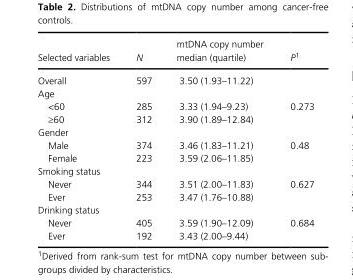table: (36, 37, 313, 240)
table column: (163, 37, 276, 240), (36, 37, 122, 240), (122, 37, 163, 240), (276, 37, 313, 240)
table column header: (36, 37, 313, 68)
table projected row header: (36, 86, 313, 99), (36, 125, 313, 138), (36, 164, 313, 177), (36, 202, 313, 215)
table row: (36, 37, 313, 68), (36, 68, 313, 86), (36, 111, 313, 125), (36, 86, 313, 99), (36, 125, 313, 138), (36, 138, 313, 151), (36, 151, 313, 164), (36, 164, 313, 177), (36, 177, 313, 190), (36, 202, 313, 215), (36, 215, 313, 228), (36, 99, 313, 111), (36, 190, 313, 202), (36, 228, 313, 240)
table spanning cell: (276, 99, 313, 125), (276, 138, 313, 164), (276, 177, 313, 202), (276, 215, 313, 240)
